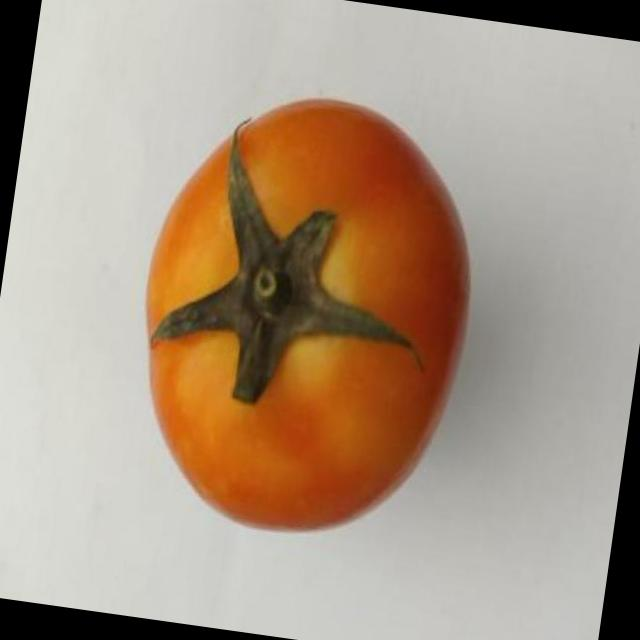tomato: (142, 102, 472, 537)
